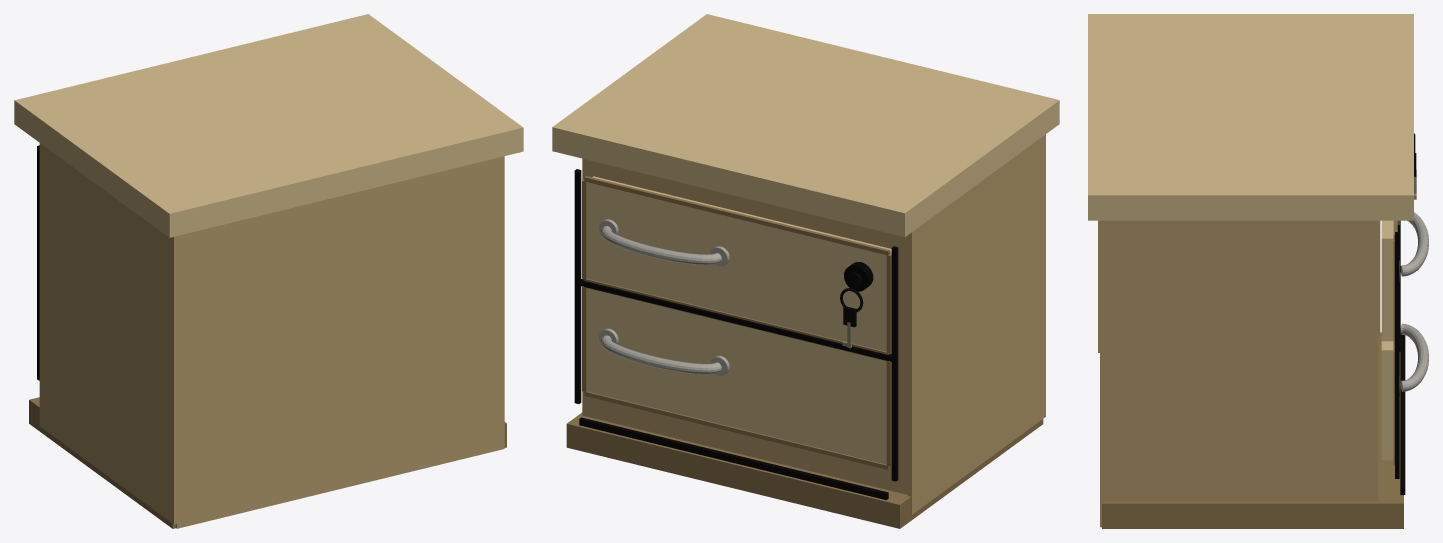
Rendered from tu_go_nho.obj.
The picture shows the model from 3 angles, left to right: view 1: azimuth 30°, elevation 25°; view 2: azimuth 150°, elevation 25°; view 3: azimuth 270°, elevation 25°; orthographic projection. The views are drawn at different scales.
Visible parts, largest first — view 1: cabinet_body_box, top_overhanging_slab, left_side_slightly_darker, bottom_plinth, left_vertical_front_shadow; view 2: top_overhanging_slab, left_side_slightly_darker, lower_drawer_front_panel, upper_drawer_front_panel, cabinet_body_box, bottom_plinth, recessed_bottom_shadow, horizontal_gap_between_drawers, upper_drawer_top_bevel_line, left_vertical_front_shadow, right_vertical_front_shadow, lower_drawer_bottom_bevel_line (+5 smaller); view 3: cabinet_body_box, top_overhanging_slab, bottom_plinth, upper_drawer_front_panel, lower_drawer_front_panel, right_vertical_front_shadow, lower_curved_silver_handle, recessed_bottom_shadow, upper_curved_silver_handle, left_side_slightly_darker.
Part boxes in pixels (x1=…): cabinet_body_box: x1=176, y1=156, x2=504, y2=528; top_overhanging_slab: x1=14, y1=14, x2=523, y2=237; left_side_slightly_darker: x1=39, y1=143, x2=177, y2=524; bottom_plinth: x1=29, y1=397, x2=506, y2=528; left_vertical_front_shadow: x1=37, y1=145, x2=39, y2=380; top_overhanging_slab: x1=552, y1=14, x2=1059, y2=236; left_side_slightly_darker: x1=908, y1=134, x2=1045, y2=514; lower_drawer_front_panel: x1=587, y1=288, x2=886, y2=464; upper_drawer_front_panel: x1=587, y1=176, x2=891, y2=351; cabinet_body_box: x1=582, y1=158, x2=907, y2=494; bottom_plinth: x1=566, y1=412, x2=1043, y2=528; recessed_bottom_shadow: x1=579, y1=417, x2=888, y2=499; horizontal_gap_between_drawers: x1=578, y1=279, x2=892, y2=361; upper_drawer_top_bevel_line: x1=584, y1=176, x2=890, y2=255; left_vertical_front_shadow: x1=891, y1=246, x2=898, y2=481; right_vertical_front_shadow: x1=574, y1=169, x2=581, y2=403; lower_drawer_bottom_bevel_line: x1=584, y1=391, x2=890, y2=469; cabinet_body_box: x1=1100, y1=220, x2=1378, y2=527; top_overhanging_slab: x1=1088, y1=14, x2=1413, y2=220; bottom_plinth: x1=1102, y1=332, x2=1403, y2=528; upper_drawer_front_panel: x1=1381, y1=220, x2=1393, y2=341; lower_drawer_front_panel: x1=1381, y1=341, x2=1393, y2=460; right_vertical_front_shadow: x1=1395, y1=232, x2=1399, y2=478; lower_curved_silver_handle: x1=1400, y1=323, x2=1428, y2=391; recessed_bottom_shadow: x1=1400, y1=334, x2=1405, y2=494; upper_curved_silver_handle: x1=1400, y1=212, x2=1428, y2=276; left_side_slightly_darker: x1=1098, y1=220, x2=1380, y2=352.
Size of the model in its own units: 1.08 by 0.94 by 0.8578.
